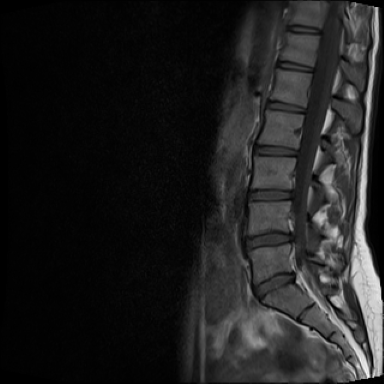Lumbar Disc Bulge (LDB): (244, 267, 302, 308), (241, 228, 298, 253)
Normal IVD: (240, 182, 298, 203), (248, 139, 303, 160), (263, 96, 310, 117), (274, 57, 317, 75), (281, 22, 324, 37)
Spinal Stenosis (SS): (286, 262, 301, 289), (285, 224, 300, 248)
